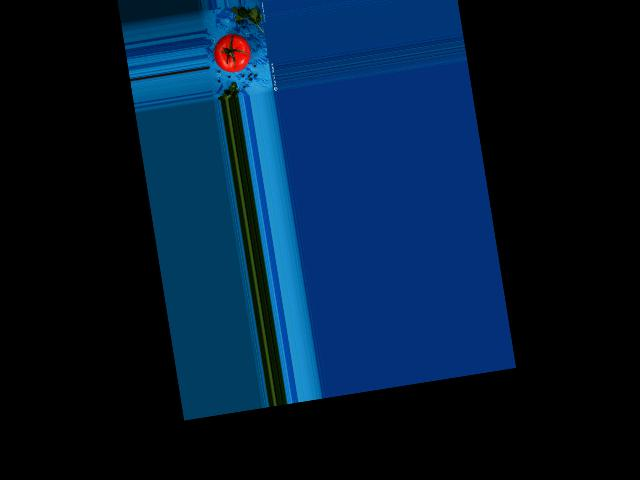tomato: (211, 30, 253, 74)
